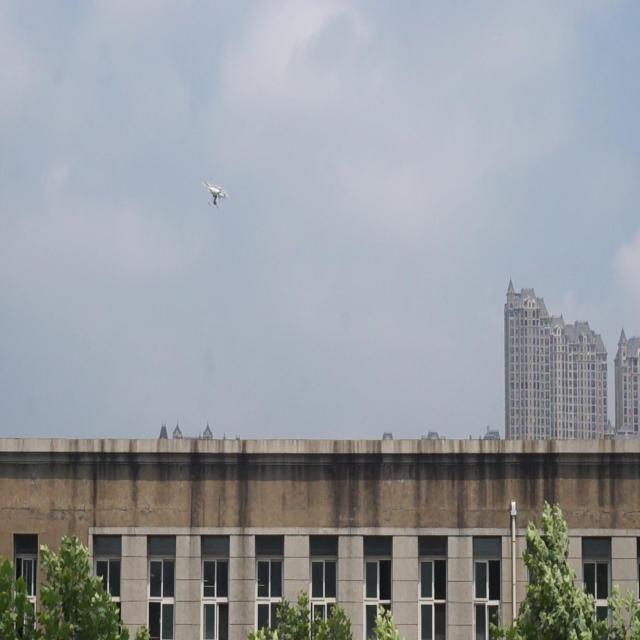drone: (200, 178, 232, 214)
